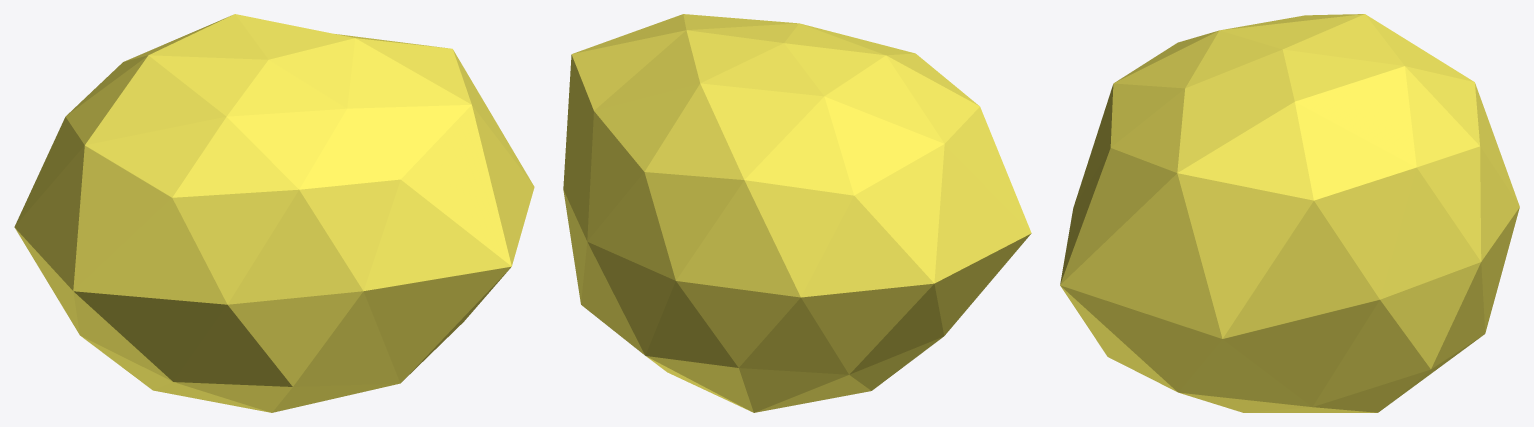
File: Potato.fbx
The picture shows the model from 3 angles, left to right: view 1: azimuth 30°, elevation 25°; view 2: azimuth 150°, elevation 25°; view 3: azimuth 270°, elevation 25°; orthographic projection. The views are drawn at different scales.
Parts seen in each view (by area): view 1: Icosphere; view 2: Icosphere; view 3: Icosphere.
Boxes of the visible parts, x1,y1,x2,y2 form: Icosphere: [14, 14, 534, 412]; Icosphere: [563, 14, 1031, 412]; Icosphere: [1060, 14, 1519, 412].
Bounding box in the file's own units: 252 × 180 × 211.
